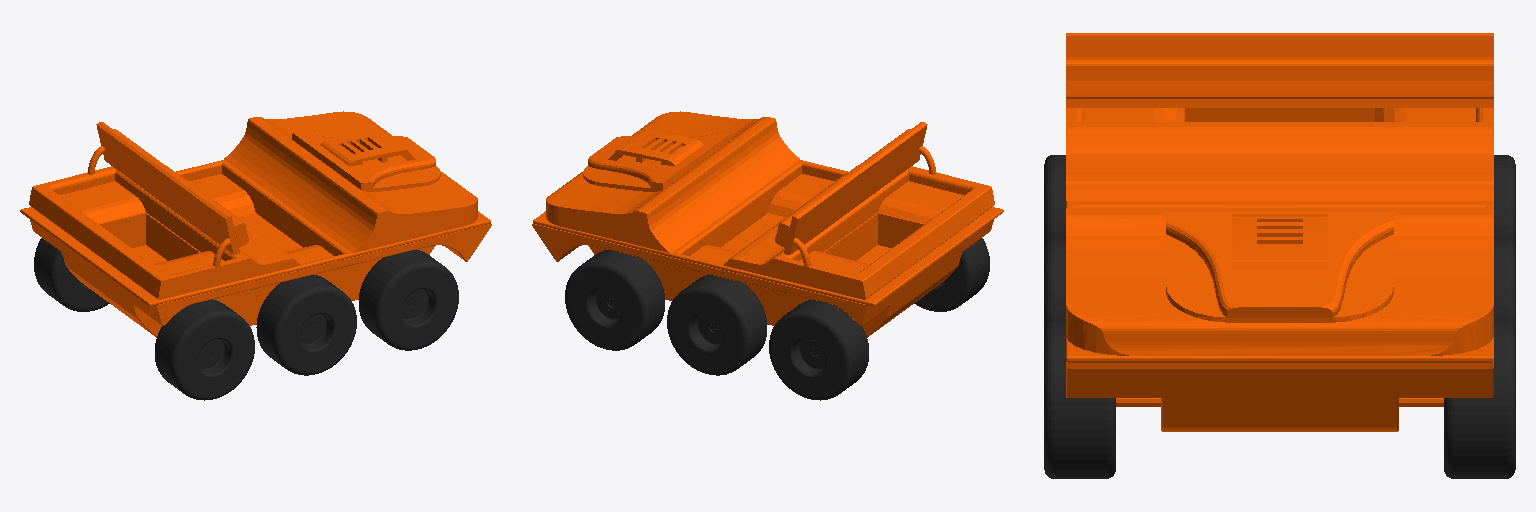
robot.urdf — argo_urdf_2:
<?xml version="1.0" ?>
<!-- =================================================================================== -->
<!-- |    This document was autogenerated by xacro from [local-path]/catkin_ws/src/argo_description/urdf/argo_urdf_2.xacro | -->
<!-- |    EDITING THIS FILE BY HAND IS NOT RECOMMENDED                                 | -->
<!-- =================================================================================== -->
<robot name="argo_urdf_2" xmlns:xacro="http://ros.org/wiki/xacro">
  <!-- Size of square 'camera' box -->
  <!-- Import all Gazebo-customization elements, including Gazebo colors -->
  <!-- ros_control plugin -->
  <gazebo>
    <plugin filename="libgazebo_ros_control.so" name="gazebo_ros_control">
      <robotNamespace>/</robotNamespace>
      <robotSimType>gazebo_ros_control/DefaultRobotHWSim</robotSimType>
    </plugin>
  </gazebo>
  <!-- Link1 -->
  <gazebo reference="base_link">
    <material>Gazebo/Orange</material>
  </gazebo>
  <!-- Link2 -->
  <gazebo reference="FLW">
    <material>Gazebo/Grey</material>
    <mu1 value="1.0"/>
    <mu2 value="1.0"/>
    <kp value="10000000.0"/>
    <kd value="1.0"/>
    <fdir1 value="1 0 0"/>
  </gazebo>
  <!-- Link2 -->
  <gazebo reference="FRW">
    <material>Gazebo/Grey</material>
    <mu1 value="1.0"/>
    <mu2 value="1.0"/>
    <kp value="10000000.0"/>
    <kd value="1.0"/>
    <fdir1 value="1 0 0"/>
  </gazebo>
  <!-- Link2 -->
  <gazebo reference="MLW">
    <material>Gazebo/Grey</material>
    <mu1 value="1.0"/>
    <mu2 value="1.0"/>
    <kp value="10000000.0"/>
    <kd value="1.0"/>
    <fdir1 value="1 0 0"/>
  </gazebo>
  <!-- Link2 -->
  <gazebo reference="MRW">
    <material>Gazebo/Grey</material>
    <mu1 value="1.0"/>
    <mu2 value="1.0"/>
    <kp value="10000000.0"/>
    <kd value="1.0"/>
    <fdir1 value="1 0 0"/>
  </gazebo>
  <!-- Link2 -->
  <gazebo reference="RLW">
    <material>Gazebo/Grey</material>
    <mu1 value="1.0"/>
    <mu2 value="1.0"/>
    <kp value="10000000.0"/>
    <kd value="1.0"/>
    <fdir1 value="1 0 0"/>
  </gazebo>
  <!-- Link2 -->
  <gazebo reference="RRW">
    <material>Gazebo/Grey</material>
    <mu1 value="1.0"/>
    <mu2 value="1.0"/>
    <kp value="10000000.0"/>
    <kd value="1.0"/>
    <fdir1 value="1 0 0"/>
  </gazebo>
  <!-- camera_link -->
  <gazebo reference="camera_link">
    <mu1>0.2</mu1>
    <mu2>0.2</mu2>
    <material>Gazebo/Red</material>
  </gazebo>
  <gazebo>
    <plugin filename="libhector_gazebo_ros_imu.so" name="imu_controller">
      <robotNamespace>/</robotNamespace>
      <updateRate>50.0</updateRate>
      <bodyName>base_link</bodyName>
      <topicName>/imu/data</topicName>
      <accelDrift>0.005 0.005 0.005</accelDrift>
      <accelGaussianNoise>0.005 0.005 0.005</accelGaussianNoise>
      <rateDrift>0.005 0.005 0.005 </rateDrift>
      <rateGaussianNoise>0.005 0.005 0.005 </rateGaussianNoise>
      <headingDrift>0.005</headingDrift>
      <headingGaussianNoise>0.005</headingGaussianNoise>
    </plugin>
  </gazebo>
  <gazebo>
    <plugin filename="libhector_gazebo_ros_gps.so" name="gps_controller">
      <updateRate>40</updateRate>
      <robotNamespace>/</robotNamespace>
      <bodyName>base_link</bodyName>
      <frameId>base_link</frameId>
      <topicName>navsat/fix</topicName>
      <velocityTopicName>navsat/vel</velocityTopicName>
      <referenceLatitude>49.9</referenceLatitude>
      <referenceLongitude>8.9</referenceLongitude>
      <referenceHeading>0</referenceHeading>
      <referenceAltitude>0</referenceAltitude>
      <drift>0.0001 0.0001 0.0001</drift>
    </plugin>
  </gazebo>
  <!--Skis Steer -->
  <gazebo>
    <plugin filename="libgazebo_ros_skid_steer_drive.so" name="skid_steer_drive_controller">
      <updateRate>100.0</updateRate>
      <robotNamespace>/</robotNamespace>
      <leftFrontJoint>FLW_cont</leftFrontJoint>
      <rightFrontJoint>FRW_cont</rightFrontJoint>
      <leftRearJoint>RLW_cont</leftRearJoint>
      <rightRearJoint>RRW_cont</rightRearJoint>
      <wheelSeparation>0.456</wheelSeparation>
      <wheelDiameter>0.35</wheelDiameter>
      <robotBaseFrame>base_link</robotBaseFrame>
      <torque>20</torque>
      <commandTopic>cmd_vel</commandTopic>
      <odometryTopic>odom</odometryTopic>
      <broadcastTF>false</broadcastTF>
    </plugin>
  </gazebo>
  <!-- Import Rviz colors -->
  <material name="black">
    <color rgba="0.0 0.0 0.0 1.0"/>
  </material>
  <material name="blue">
    <color rgba="0.0 0.0 0.8 1.0"/>
  </material>
  <material name="green">
    <color rgba="0.0 0.8 0.0 1.0"/>
  </material>
  <material name="grey">
    <color rgba="0.2 0.2 0.2 1.0"/>
  </material>
  <material name="orange">
    <color rgba="1.0 0.423529411765 0.0392156862745 1.0"/>
  </material>
  <material name="brown">
    <color rgba="0.870588235294 0.811764705882 0.764705882353 1.0"/>
  </material>
  <material name="red">
    <color rgba="0.8 0.0 0.0 1.0"/>
  </material>
  <material name="white">
    <color rgba="1.0 1.0 1.0 1.0"/>
  </material>
  <!--<link name="base_link"/>-->
  <link name="base_link">
    <inertial>
      <origin rpy="0 0 0" xyz="-0.0287146112802265 2.27427526650059E-06 -0.0381581636610044"/>
      <mass value="32.9230854907662"/>
      <inertia ixx="0.50262556870673" ixy="2.64755785172109E-05" ixz="0.0516273031694707" iyy="1.30944756370371" iyz="6.39030326038844E-06" izz="1.57981157521551"/>
    </inertial>
    <visual>
      <origin rpy="0 0 0" xyz="0 0 0"/>
      <geometry>
        <mesh filename="package://argo_description/meshes/argo_base.STL"/>
      </geometry>
      <material name="Yellow1">
        <color rgba="1.0 0.423529411765 0.0392156862745 1.0"/>
      </material>
    </visual>
    <collision>
      <origin rpy="0 0 0" xyz="0 0 0"/>
      <geometry>
        <mesh filename="package://argo_description/meshes/argo_base_col.STL"/>
      </geometry>
    </collision>
  </link>
  <!-- <joint name="base_link_joint" type="fixed">
      <origin xyz="0 0 0" rpy="0 0 0" />
      <parent link="base_link" />
      <child link="base_link" />
    </joint>-->
  <link name="FLW">
    <inertial>
      <origin rpy="0 0 0" xyz="0 0.0156139504736138 0"/>
      <mass value="1.50789368049402"/>
      <inertia ixx="0.00365307678558648" ixy="5.1636108652648E-20" ixz="2.64359085585098E-19" iyy="0.00597955732075583" iyz="-2.08311224067256E-21" izz="0.00365307678558648"/>
    </inertial>
    <visual>
      <origin rpy="0 0 0" xyz="0 0 0"/>
      <geometry>
        <mesh filename="package://argo_description/meshes/FLW.STL"/>
      </geometry>
      <material name="Grey">
        <color rgba="0.2 0.2 0.2 1.0"/>
      </material>
    </visual>
    <collision>
      <origin rpy="0 0 0" xyz="0 0 0"/>
      <geometry>
        <!--mesh
          filename="package://argo_description/meshes/FLW_col.STL" /-->
        <cylinder length="0.0762" radius="0.085"/>
      </geometry>
    </collision>
  </link>
  <joint name="FLW_cont" type="continuous">
    <origin rpy="0 -1.1994E-16 0" xyz="0.12882 0.19812 -0.12406"/>
    <parent link="base_link"/>
    <child link="FLW"/>
    <axis xyz="0 1 0"/>
  </joint>
  <link name="MLW">
    <inertial>
      <origin rpy="0 0 0" xyz="-1.11022302462516E-16 0.0156139504736138 -2.77555756156289E-17"/>
      <mass value="1.50789368049402"/>
      <inertia ixx="0.00365307678558648" ixy="-1.96783860550682E-20" ixz="-1.53748539592062E-19" iyy="0.00597955732075583" iyz="2.56422756461994E-20" izz="0.00365307678558648"/>
    </inertial>
    <visual>
      <origin rpy="0 0 0" xyz="0 0 0"/>
      <geometry>
        <mesh filename="package://argo_description/meshes/MLW.STL"/>
      </geometry>
      <material name="Grey">
        <color rgba="0.2 0.2 0.2 1.0"/>
      </material>
    </visual>
    <collision>
      <origin rpy="0 0 0" xyz="0 0 0"/>
      <geometry>
        <!--mesh
          filename="package://argo_description/meshes/MLW_col.STL" /-->
        <cylinder length="0.0762" radius="0.085"/>
      </geometry>
    </collision>
  </link>
  <joint name="MLW_cont" type="continuous">
    <origin rpy="0 -1.1994E-16 0" xyz="-0.079459 0.19812 -0.12406"/>
    <parent link="base_link"/>
    <child link="MLW"/>
    <axis xyz="0 1 0"/>
  </joint>
  <link name="RLW">
    <inertial>
      <origin rpy="0 0 0" xyz="1.11022302462516E-16 0.0156139504736138 -8.32667268468867E-17"/>
      <mass value="1.50789368049402"/>
      <inertia ixx="0.00365307678558648" ixy="-7.0757132097532E-20" ixz="2.68751351881889E-19" iyy="0.00597955732075583" iyz="1.10554828062947E-19" izz="0.00365307678558648"/>
    </inertial>
    <visual>
      <origin rpy="0 0 0" xyz="0 0 0"/>
      <geometry>
        <mesh filename="package://argo_description/meshes/RLW.STL"/>
      </geometry>
      <material name="Grey">
        <color rgba="0.2 0.2 0.2 1.0"/>
      </material>
    </visual>
    <collision>
      <origin rpy="0 0 0" xyz="0 0 0"/>
      <geometry>
        <!--mesh
          filename="package://argo_description/meshes/RLW_col.STL" /-->
        <cylinder length="0.0762" radius="0.085"/>
      </geometry>
    </collision>
  </link>
  <joint name="RLW_cont" type="continuous">
    <origin rpy="0 -1.1994E-16 0" xyz="-0.28774 0.19812 -0.12406"/>
    <parent link="base_link"/>
    <child link="RLW"/>
    <axis xyz="0 1 0"/>
  </joint>
  <link name="FRW">
    <inertial>
      <origin rpy="0 0 0" xyz="5.55111512312578E-17 -0.0156139504736139 0"/>
      <mass value="1.50789368049402"/>
      <inertia ixx="0.00365307678558648" ixy="4.05259849993083E-20" ixz="4.25308640713539E-19" iyy="0.00597955732075583" iyz="-4.92635009524994E-20" izz="0.00365307678558648"/>
    </inertial>
    <visual>
      <origin rpy="0 0 0" xyz="0 0 0"/>
      <geometry>
        <mesh filename="package://argo_description/meshes/FRW.STL"/>
      </geometry>
      <material name="Grey">
        <color rgba="0.2 0.2 0.2 1.0"/>
      </material>
    </visual>
    <collision>
      <origin rpy="0 0 0" xyz="0 0 0"/>
      <geometry>
        <!--mesh
          filename="package://argo_description/meshes/FRW_col.STL" /-->
        <cylinder length="0.0762" radius="0.085"/>
      </geometry>
    </collision>
  </link>
  <joint name="FRW_cont" type="continuous">
    <origin rpy="0 0 0" xyz="0.128821215414625 -0.19812 -0.124058737135444"/>
    <parent link="base_link"/>
    <child link="FRW"/>
    <axis xyz="0 1 0"/>
  </joint>
  <link name="MRW">
    <inertial>
      <origin rpy="0 0 0" xyz="0 -0.0156139504736138 1.38777878078145E-16"/>
      <mass value="1.50789368049402"/>
      <inertia ixx="0.00365307678558648" ixy="1.31117846911124E-21" ixz="-5.15282286567131E-19" iyy="0.00597955732075583" iyz="-2.1351225407273E-20" izz="0.00365307678558648"/>
    </inertial>
    <visual>
      <origin rpy="0 0 0" xyz="0 0 0"/>
      <geometry>
        <mesh filename="package://argo_description/meshes/MRW.STL"/>
      </geometry>
      <material name="Grey">
        <color rgba="0.2 0.2 0.2 1.0"/>
      </material>
    </visual>
    <collision>
      <origin rpy="0 0 0" xyz="0 0 0"/>
      <geometry>
        <!--mesh
          filename="package://argo_description/meshes/MRW_col.STL" /-->
        <cylinder length="0.0762" radius="0.085"/>
      </geometry>
    </collision>
  </link>
  <joint name="MRW_cont" type="continuous">
    <origin rpy="0 -1.1994E-16 0" xyz="-0.079459 -0.19812 -0.12406"/>
    <parent link="base_link"/>
    <child link="MRW"/>
    <axis xyz="0 1 0"/>
  </joint>
  <link name="RRW">
    <inertial>
      <origin rpy="0 0 0" xyz="-1.11022302462516E-16 -0.0156139504736139 0"/>
      <mass value="1.50789368049402"/>
      <inertia ixx="0.00365307678558648" ixy="1.06637185456317E-19" ixz="1.35525271560688E-20" iyy="0.00597955732075583" iyz="-1.42529762888991E-20" izz="0.00365307678558648"/>
    </inertial>
    <visual>
      <origin rpy="0 0 0" xyz="0 0 0"/>
      <geometry>
        <mesh filename="package://argo_description/meshes/RRW.STL"/>
      </geometry>
      <material name="Grey">
        <color rgba="0.2 0.2 0.2 1.0"/>
      </material>
    </visual>
    <collision>
      <origin rpy="0 0 0" xyz="0 0 0"/>
      <geometry>
        <!--mesh
          filename="package://argo_description/meshes/RRW_col.STL" /-->
        <cylinder length="0.0762" radius="0.085"/>
      </geometry>
    </collision>
  </link>
  <joint name="RRW_cont" type="continuous">
    <origin rpy="0 -0.010714 0" xyz="-0.28774 -0.19812 -0.12406"/>
    <parent link="base_link"/>
    <child link="RRW"/>
    <axis xyz="0 1 0"/>
  </joint>
  <transmission name="FL_wheel_trans" type="SimpleTransmission">
    <type>transmission_interface/SimpleTransmission</type>
    <actuator name="FL_wheel_motor">
      <mechanicalReduction>1</mechanicalReduction>
    </actuator>
    <joint name="FLW_cont">
      <hardwareInterface>VelocityJointInterface</hardwareInterface>
    </joint>
  </transmission>
  <transmission name="ML_wheel_trans" type="SimpleTransmission">
    <type>transmission_interface/SimpleTransmission</type>
    <actuator name="ML_wheel_motor">
      <mechanicalReduction>1</mechanicalReduction>
    </actuator>
    <joint name="MLW_cont">
      <hardwareInterface>VelocityJointInterface</hardwareInterface>
    </joint>
  </transmission>
  <transmission name="RL_wheel_trans" type="SimpleTransmission">
    <type>transmission_interface/SimpleTransmission</type>
    <actuator name="RL_wheel_motor">
      <mechanicalReduction>1</mechanicalReduction>
    </actuator>
    <joint name="RLW_cont">
      <hardwareInterface>VelocityJointInterface</hardwareInterface>
    </joint>
  </transmission>
  <transmission name="FR_wheel_trans" type="SimpleTransmission">
    <type>transmission_interface/SimpleTransmission</type>
    <actuator name="FR_wheel_motor">
      <mechanicalReduction>1</mechanicalReduction>
    </actuator>
    <joint name="FRW_cont">
      <hardwareInterface>VelocityJointInterface</hardwareInterface>
    </joint>
  </transmission>
  <transmission name="MR_wheel_trans" type="SimpleTransmission">
    <type>transmission_interface/SimpleTransmission</type>
    <actuator name="MR_wheel_motor">
      <mechanicalReduction>1</mechanicalReduction>
    </actuator>
    <joint name="MRW_cont">
      <hardwareInterface>VelocityJointInterface</hardwareInterface>
    </joint>
  </transmission>
  <transmission name="RR_wheel_trans" type="SimpleTransmission">
    <type>transmission_interface/SimpleTransmission</type>
    <actuator name="RR_wheel_motor">
      <mechanicalReduction>1</mechanicalReduction>
    </actuator>
    <joint name="RRW_cont">
      <hardwareInterface>VelocityJointInterface</hardwareInterface>
    </joint>
  </transmission>
  <link name="base_laser">
    <inertial>
      <mass value="1.1"/>
      <origin xyz="0 0 0"/>
      <inertia ixx="0.00307156543804" ixy="0.0" ixz="0.0" iyy="0.00312849041527" iyz="0.0" izz="0.00196432421427"/>
    </inertial>
    <visual>
      <origin rpy="0 0 0" xyz="0 0 0"/>
      <geometry>
        <!-- Origin of this mesh is the focal point of the LIDAR. -->
        <mesh filename="package://lms1xx/meshes/sick-lms1xx.dae"/>
      </geometry>
    </visual>
    <collision>
      <origin rpy="0 0 0" xyz="0 0 -0.05"/>
      <geometry>
        <box size="0.105 0.1 0.1"/>
      </geometry>
    </collision>
  </link>
  <gazebo reference="base_laser">
    <turnGravityOff>true</turnGravityOff>
    <sensor name="base_laser" type="ray">
      <pose>0 0 0 0 0 0</pose>
      <visualize>false</visualize>
      <update_rate>50</update_rate>
      <ray>
        <scan>
          <horizontal>
            <samples>720</samples>
            <resolution>1</resolution>
            <min_angle>-2.35619</min_angle>
            <max_angle>2.35619</max_angle>
          </horizontal>
        </scan>
        <range>
          <min>0.10</min>
          <max>30.0</max>
          <resolution>0.01</resolution>
        </range>
        <noise>
          <type>gaussian</type>
          <mean>0.0</mean>
          <stddev>0.001</stddev>
        </noise>
      </ray>
      <plugin filename="libgazebo_ros_laser.so" name="gazebo_ros_laser">
        <topicName>scan</topicName>
        <frameName>base_laser</frameName>
      </plugin>
    </sensor>
  </gazebo>
  <link name="base_laser_mount">
    <visual>
      <origin rpy="0 0 -1.570795" xyz="0 0 0"/>
      <geometry>
        <!-- Origin of this mesh is the base of the bracket. -->
        <mesh filename="package://argo_description/meshes/accessories/lms1xx_mount.dae"/>
      </geometry>
    </visual>
    <collision>
      <origin rpy="0 0 0" xyz="0 0 .0585"/>
      <geometry>
        <box size=".1 .108 .117"/>
      </geometry>
    </collision>
  </link>
  <joint name="base_laser_joint" type="fixed">
    <!-- This offset is from the base of the bracket to the LIDAR's focal point. -->
    <origin rpy="3.14159 0 0" xyz="0.0352 0 0.0566"/>
    <parent link="base_laser_mount"/>
    <child link="base_laser"/>
  </joint>
  <joint name="laser_mount_joint" type="fixed">
    <origin rpy="0.0 0.0 0.0" xyz="0.2206 0.0 0.135"/>
    <parent link="base_link"/>
    <child link="base_laser_mount"/>
  </joint>
  <!--  <xacro:if value="$(arg kinect_enabled)">

      <xacro:sensor_arch prefix="" parent="base_link">
        <origin xyz="-0.35 0 0.51" rpy="0 0 -3.14"/>
      </xacro:sensor_arch>
      <joint name="kinect_frame_joint" type="fixed">
        <origin xyz="$(optenv ARGO_KINECT_XYZ 0 0 0)" rpy="$(optenv ARGO_KINECT_RPY 0 0.18 3.14)" />
        <parent link="base_link"/>
        <child link="camera_link"/>
      </joint>

      <xacro:kinect_camera prefix="camera"/>
    </xacro:if>-->
  <!-- IMU Link is the standard mounting position for the UM6 IMU.-->
  <!-- Can be modified with environment variables in /etc/ros/setup.bash -->
  <link name="imu_link"/>
  <joint name="imu_joint" type="fixed">
    <origin rpy="0 -1.5708 3.1416" xyz="-0.0287146112802265 2.27427526650059E-06 -0.0381581636610044"/>
    <parent link="base_link"/>
    <child link="imu_link"/>
  </joint>
  <gazebo reference="imu_link">
    </gazebo>
</robot>

--- Facts derived from the render (not from the file) ---
3 views of the same robot in one strip: view 1: azimuth 30°, elevation 25°; view 2: azimuth 150°, elevation 25°; view 3: azimuth 270°, elevation 25° (orthographic).
Model argo_urdf_2 with 10 links and 9 joints (6 continuous, 3 fixed), rooted at base_link, posed all joints at 0.
Visible links, largest first — view 1: base_link, FRW, MRW, RRW, RLW; view 2: base_link, FLW, MLW, RLW, RRW; view 3: base_link, FRW, FLW, MLW, MRW, RRW, RLW.
Boxes of the visible links, x1=… form: base_link: x1=20, y1=111, x2=491, y2=337; FRW: x1=359, y1=250, x2=458, y2=350; MRW: x1=256, y1=275, x2=356, y2=375; RRW: x1=155, y1=299, x2=254, y2=400; RLW: x1=34, y1=238, x2=109, y2=311; base_link: x1=532, y1=111, x2=1003, y2=337; FLW: x1=565, y1=250, x2=664, y2=350; MLW: x1=667, y1=274, x2=766, y2=375; RLW: x1=769, y1=299, x2=868, y2=400; RRW: x1=914, y1=238, x2=989, y2=311; base_link: x1=1066, y1=33, x2=1493, y2=431; FRW: x1=1044, y1=320, x2=1115, y2=478; FLW: x1=1444, y1=320, x2=1515, y2=478; MLW: x1=1494, y1=237, x2=1515, y2=328; MRW: x1=1044, y1=237, x2=1065, y2=328; RRW: x1=1044, y1=155, x2=1065, y2=246; RLW: x1=1494, y1=155, x2=1515, y2=246.
Bounding box of the posed robot: 0.6988 × 0.5029 × 0.3408 m (x, y, z).
Meshes: 9 distinct files referenced, 7 mesh visuals loaded (7 binary STL); not drawn: 2 (reference not matched to a file when rendering).
